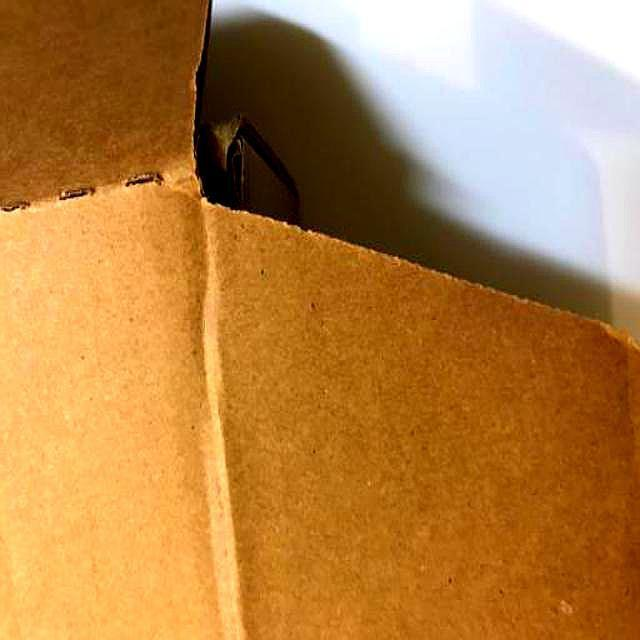Biodegradable: (1, 5, 640, 640)
